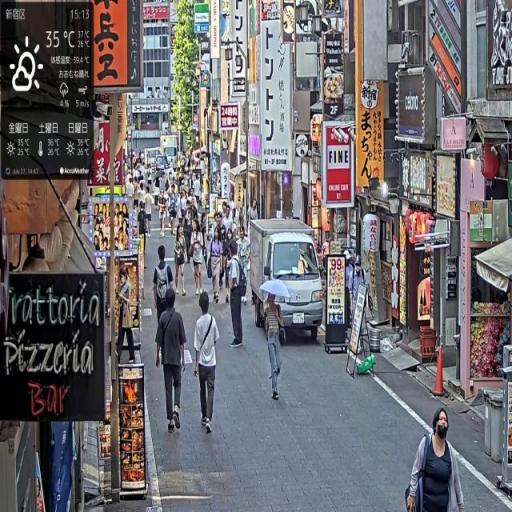person: (405, 406, 468, 512), (156, 287, 188, 436), (193, 290, 221, 436), (153, 243, 176, 366), (264, 296, 287, 403), (226, 240, 248, 351), (115, 271, 136, 367), (209, 225, 227, 307), (191, 219, 207, 297), (174, 223, 189, 297), (237, 227, 252, 274), (145, 187, 155, 237), (225, 228, 237, 269), (158, 190, 168, 239), (169, 186, 178, 238), (139, 202, 147, 254)
